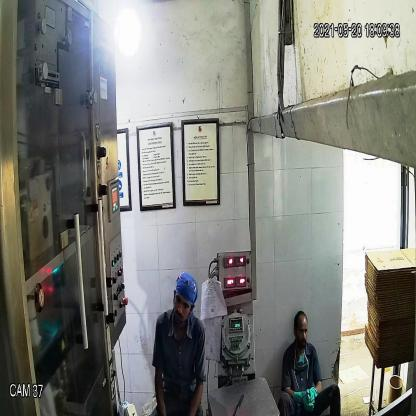no_goggles: (172, 291, 194, 314), (291, 322, 312, 340)
